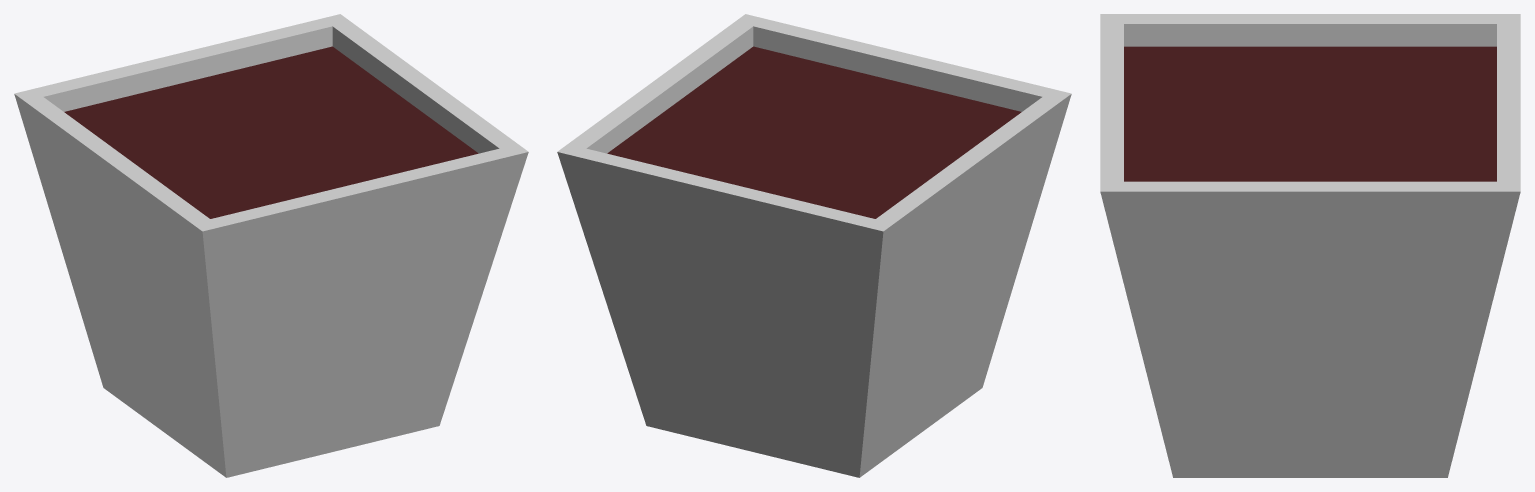
File: Plant_Vase.fbx
The picture shows the model from 3 angles, left to right: view 1: azimuth 30°, elevation 25°; view 2: azimuth 150°, elevation 25°; view 3: azimuth 270°, elevation 25°; orthographic projection. The views are drawn at different scales.
Visible parts, largest first — view 1: Plant_Vase; view 2: Plant_Vase; view 3: Plant_Vase.
Boxes of the visible parts, x1=… form: Plant_Vase: x1=14, y1=14, x2=528, y2=477; Plant_Vase: x1=557, y1=14, x2=1071, y2=477; Plant_Vase: x1=1100, y1=14, x2=1520, y2=477.
Bounding box in the file's own units: 5.09 × 5.09 × 4.24.
